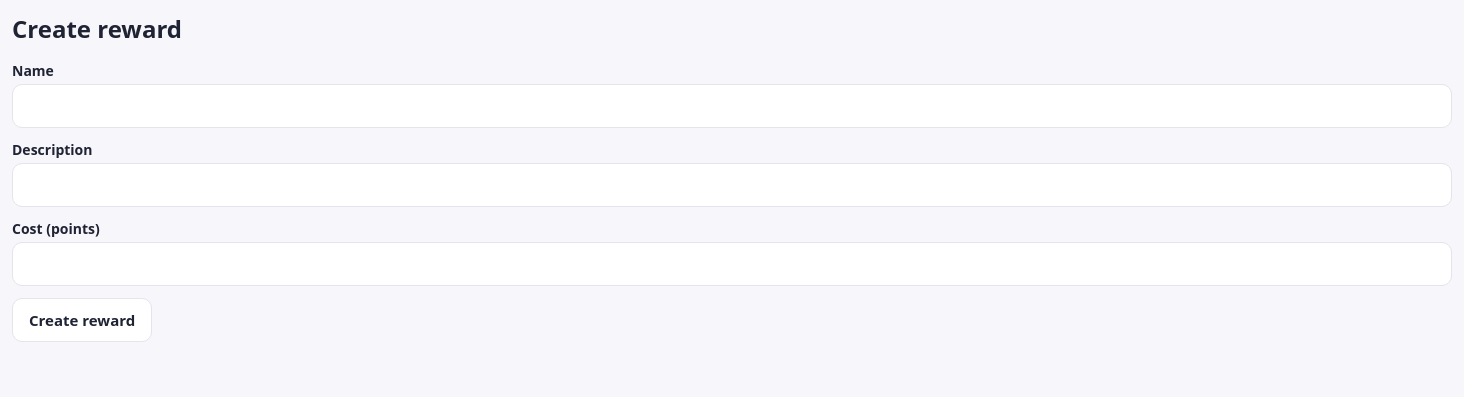
Test: NewRewardPage › requires a valid positive whole-number cost
Type "Reward" into the field labelled "Name". click: (732, 106)
box: [12,84,1452,128]
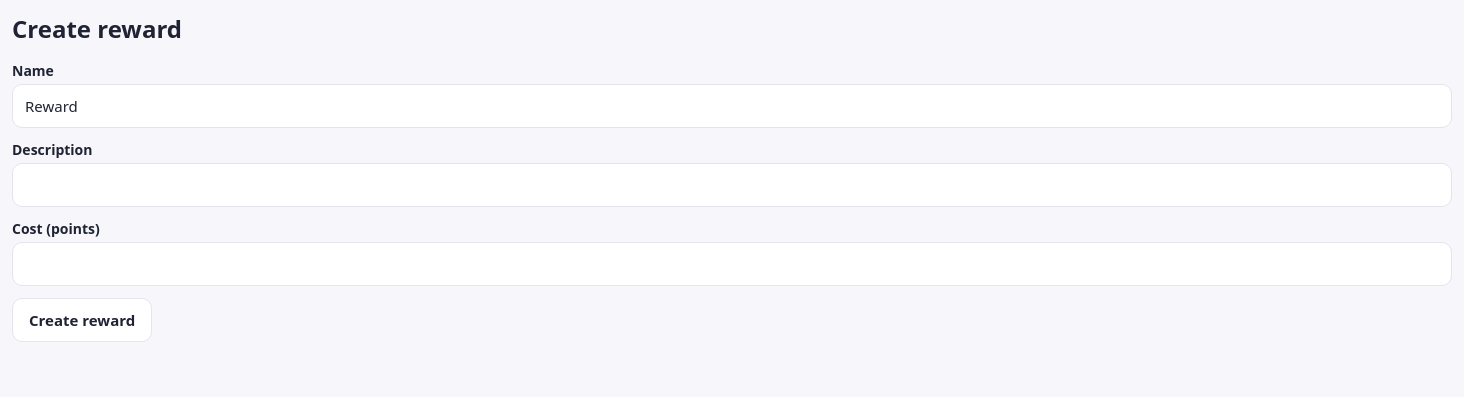
Type "0" into the number field labelled "Cost (points)". click: (732, 264)
box: [12,242,1452,286]
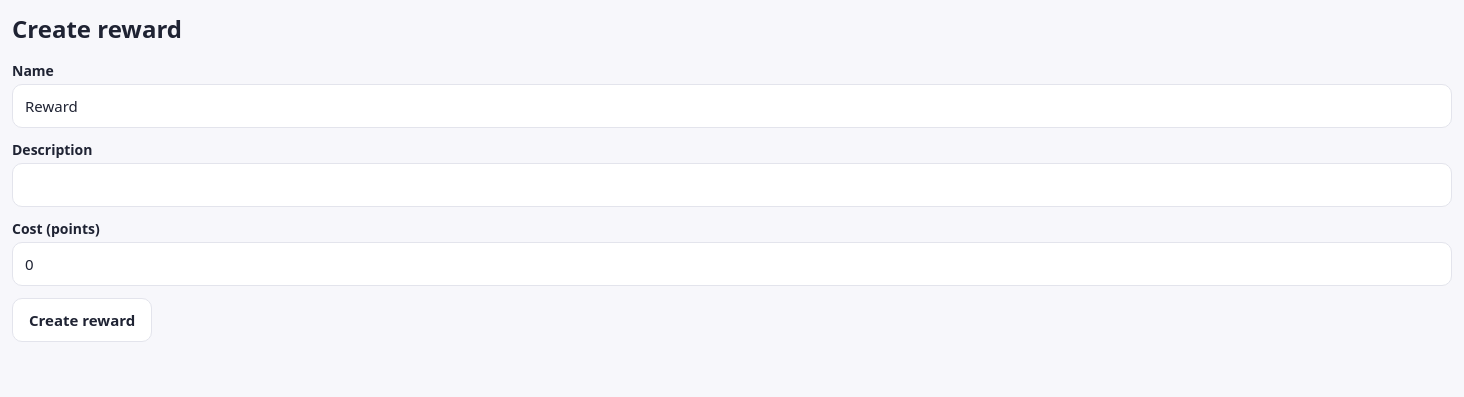
Click the button "Create reward". click: (82, 320)
box: [12,298,152,342]
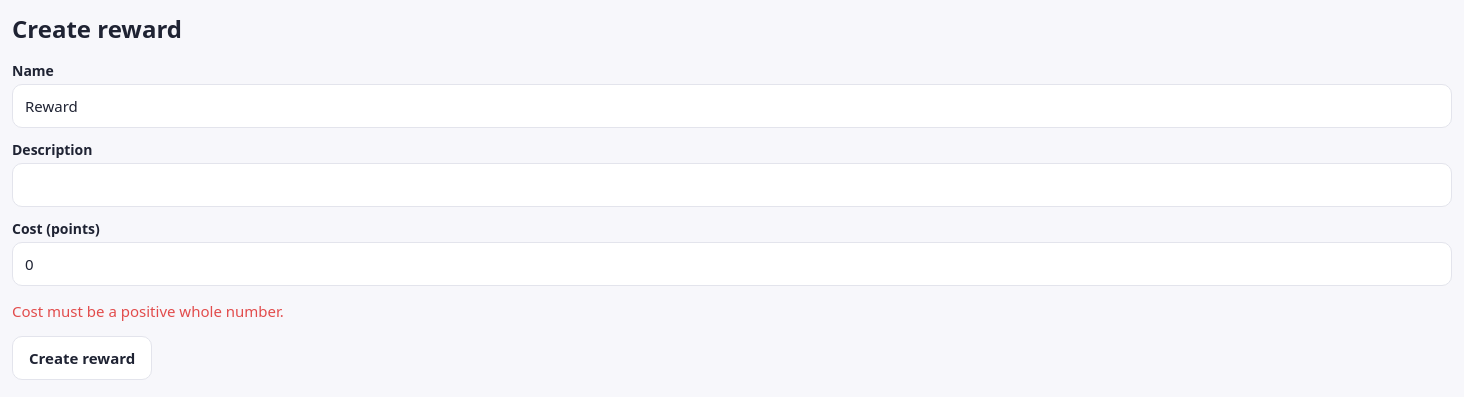
Expected: the message shows "Cost must be a positive whole number", [12,301,284,321]
